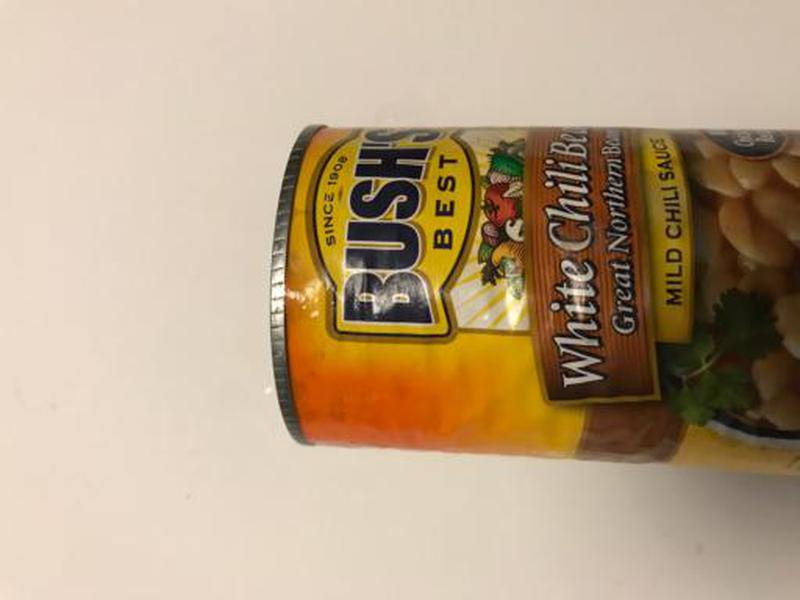can: (257, 119, 800, 482)
